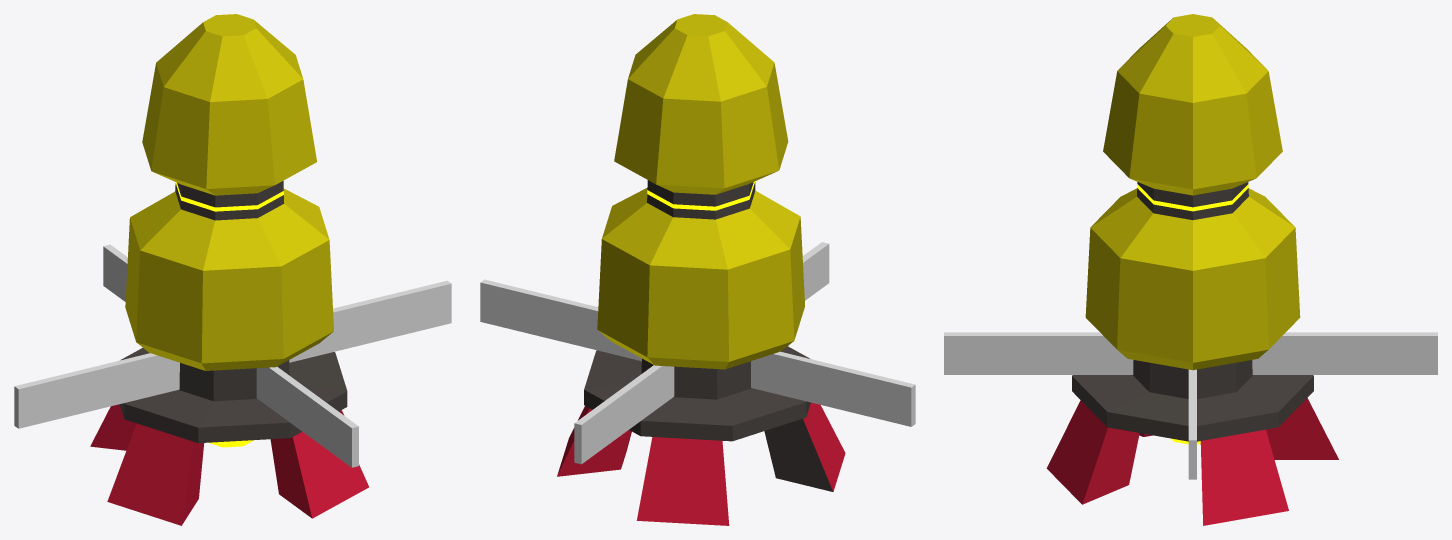
Rendered from lvl2.fbx.
The picture shows the model from 3 angles, left to right: view 1: azimuth 30°, elevation 25°; view 2: azimuth 150°, elevation 25°; view 3: azimuth 270°, elevation 25°; orthographic projection.
Visible parts, largest first — view 1: Cylinder; view 2: Cylinder; view 3: Cylinder.
Boxes of the visible parts, box(x1,y1,x2,y2) form: Cylinder: box(14, 14, 451, 525); Cylinder: box(480, 14, 915, 525); Cylinder: box(944, 14, 1437, 525).
Size of the model in its own units: 196 by 191 by 195.
